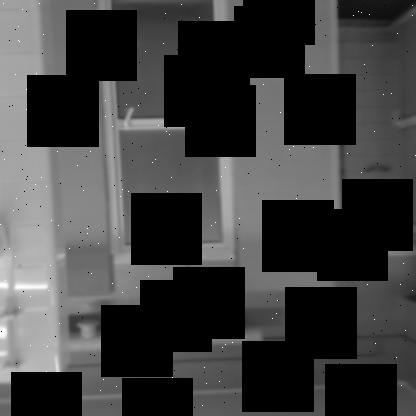Porte: (98, 1, 236, 256)
